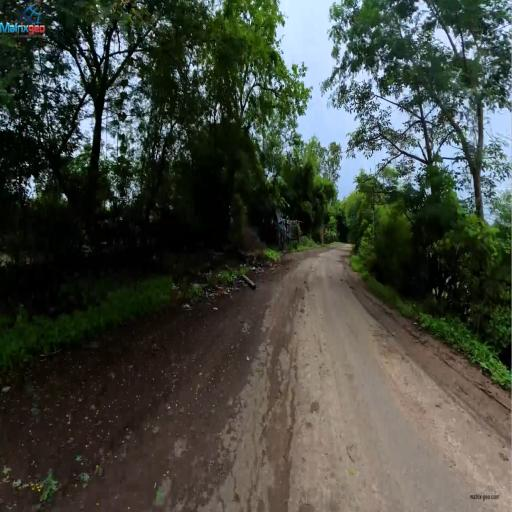alligator_crack: (263, 314, 305, 439)
